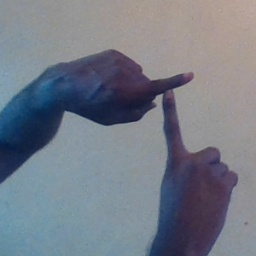T: (127, 58, 218, 182)
